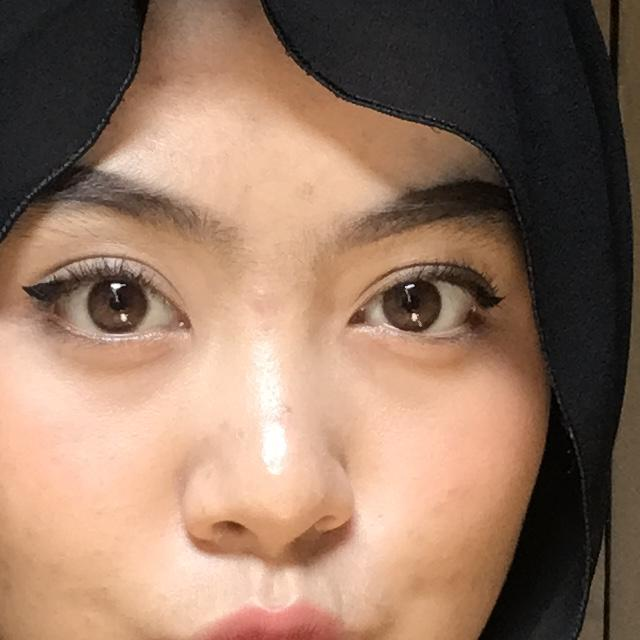sedih: (0, 0, 420, 640)
